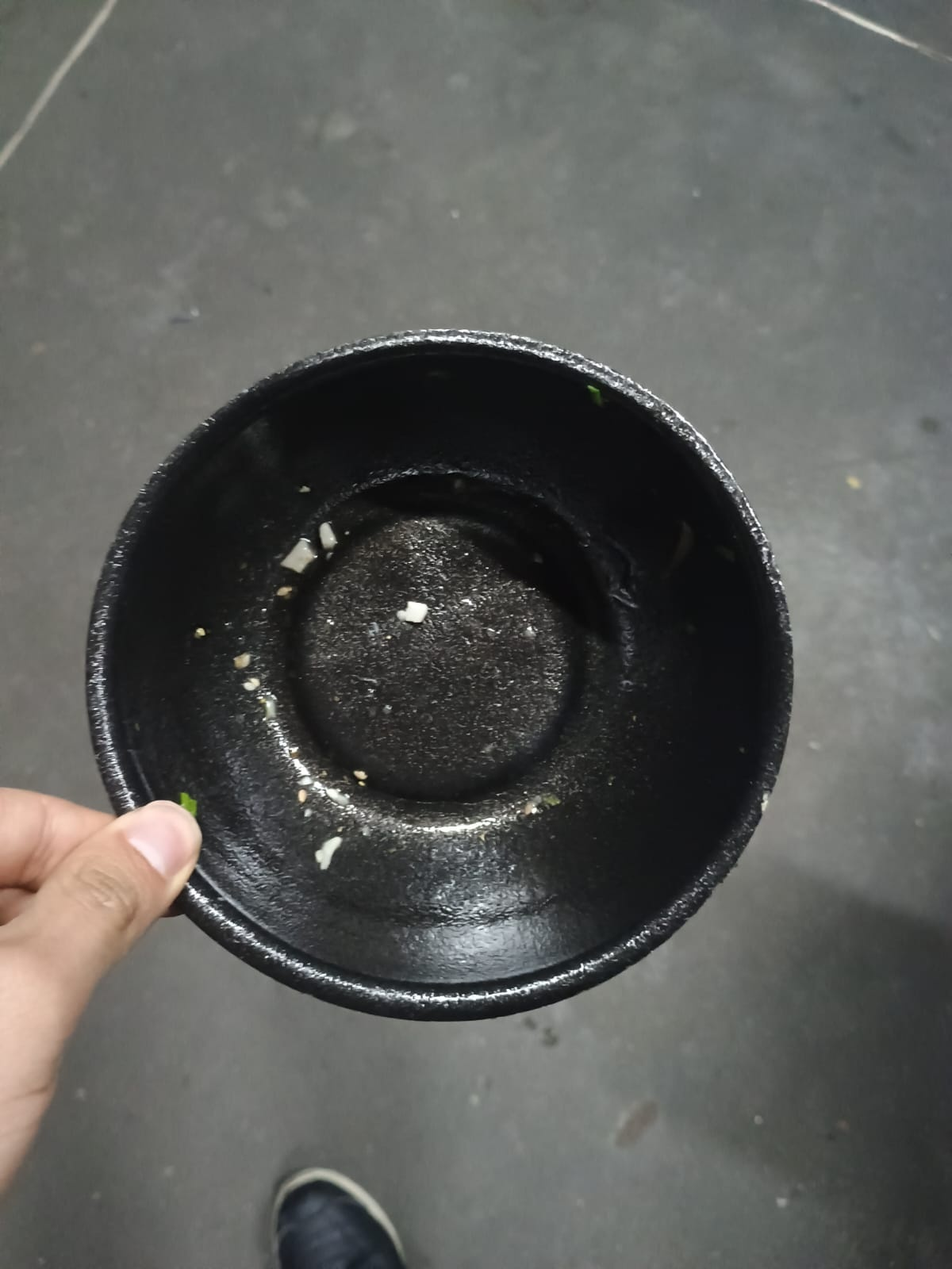Ordinario: (87, 324, 795, 1023)
